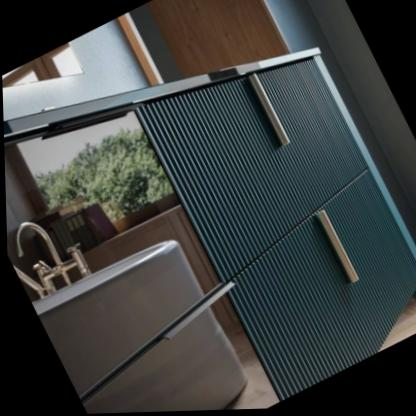Sideboard: (3, 47, 416, 414)
